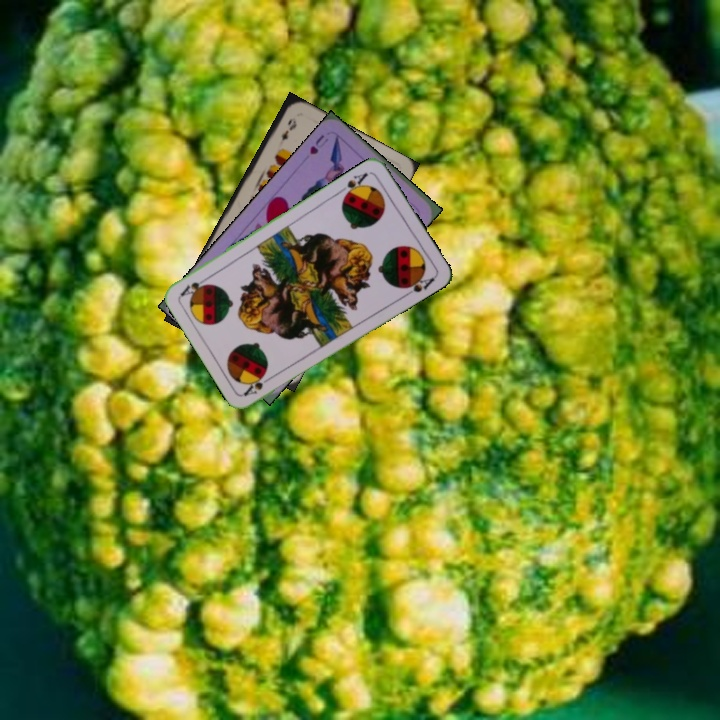E9: (277, 113, 299, 143)
HU: (305, 130, 331, 157)
SA: (335, 168, 371, 201), (240, 370, 276, 399)
